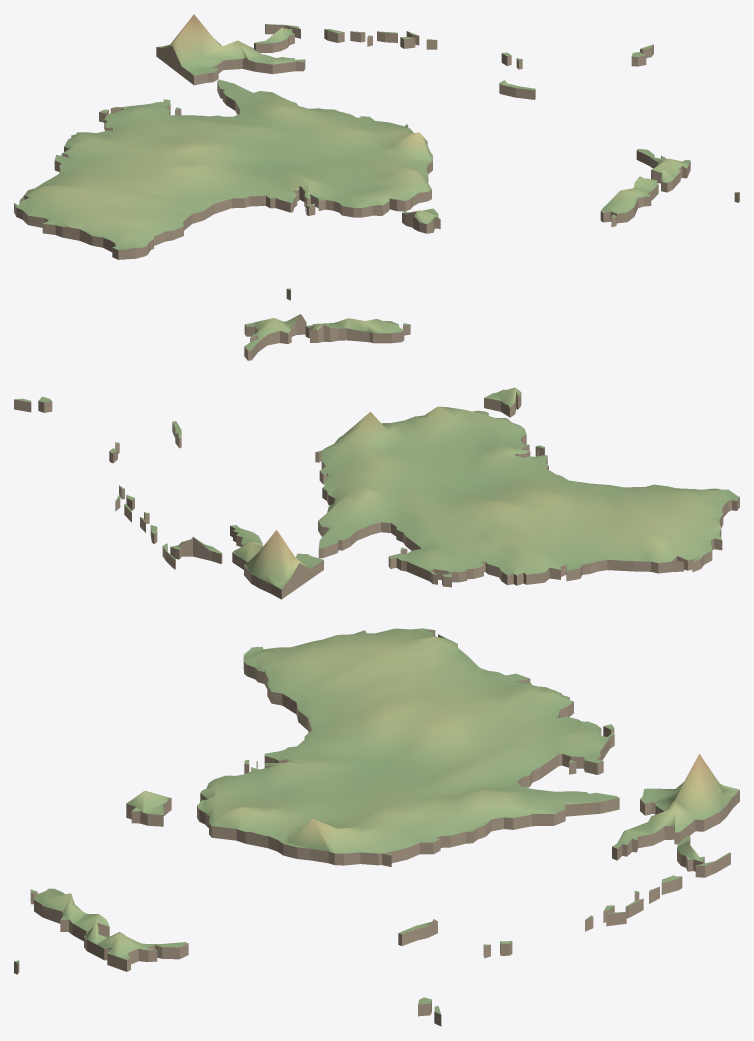
Rendered from oceania-terrain.glb.
3 renders of one model, top to bottom at view 1: azimuth 30°, elevation 25°; view 2: azimuth 150°, elevation 25°; view 3: azimuth 270°, elevation 25°, orthographic. The views are drawn at different scales.
Visible parts, largest first — view 1: oceania: norte em -Z, leste em +X, elevação em +Y; view 2: oceania: norte em -Z, leste em +X, elevação em +Y; view 3: oceania: norte em -Z, leste em +X, elevação em +Y.
Part boxes in pixels (box(x1,y1,x2,y2)): oceania: norte em -Z, leste em +X, elevação em +Y: box(14, 14, 739, 259); oceania: norte em -Z, leste em +X, elevação em +Y: box(14, 288, 739, 599); oceania: norte em -Z, leste em +X, elevação em +Y: box(14, 628, 739, 1026).
Size of the model in its own units: 1.77 by 0.1292 by 1.4.
